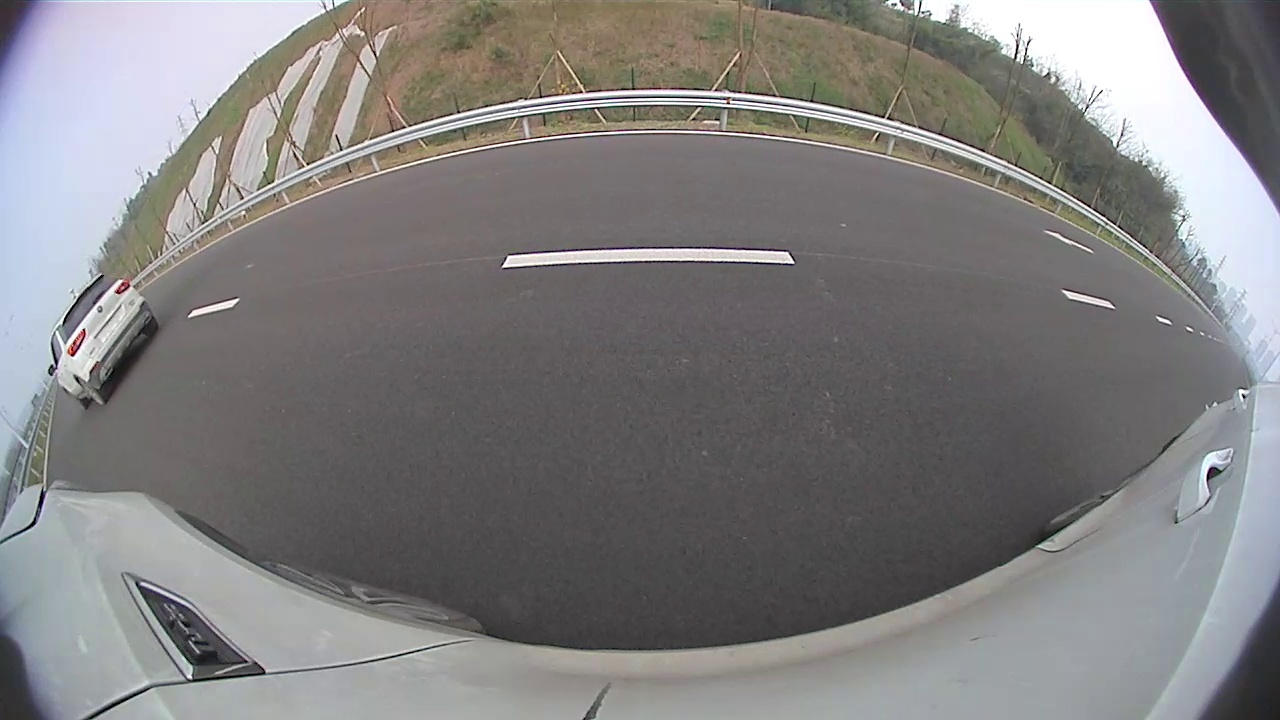car: (48, 271, 160, 408)
rear: (77, 377, 105, 406)
